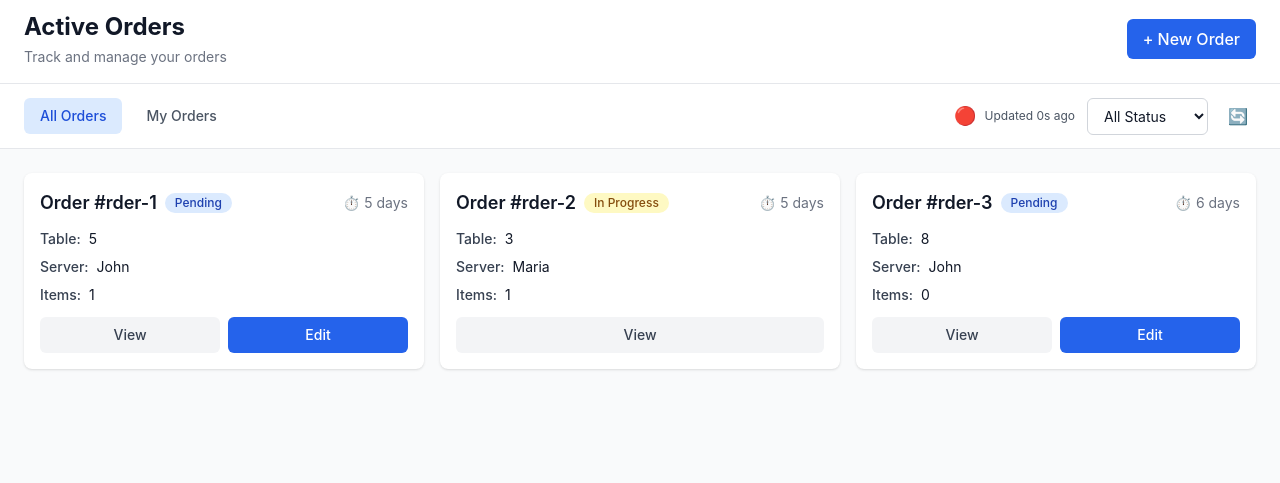
Test: OrdersPage › displays correct empty state message for "My Orders" filter
Click the button "My Orders" at (182, 116), box [130,98,233,134]
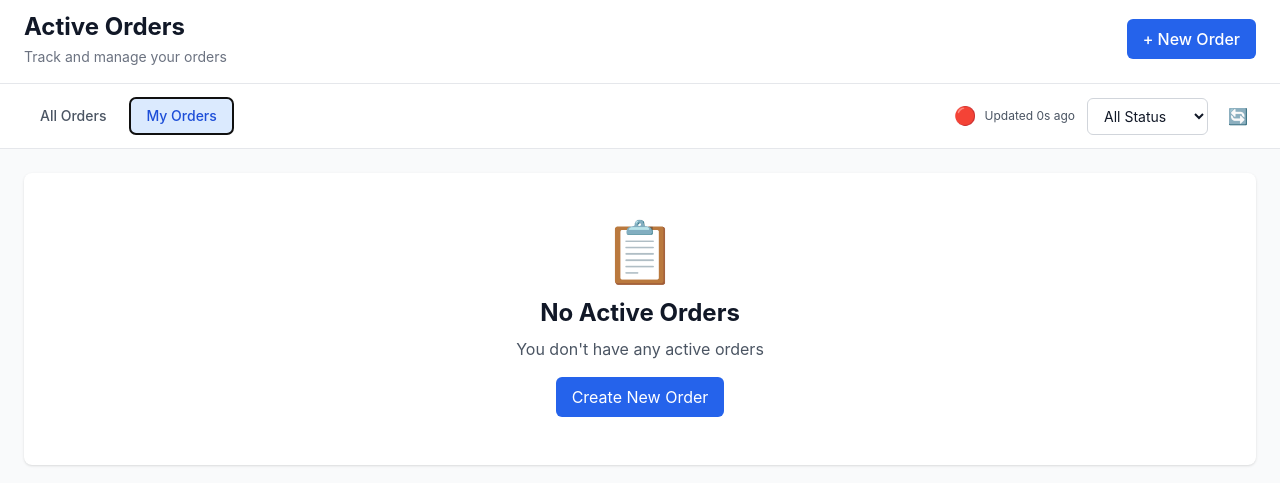
Expected: the text "You don't have any active orders" is shown, [516,339,764,359]
